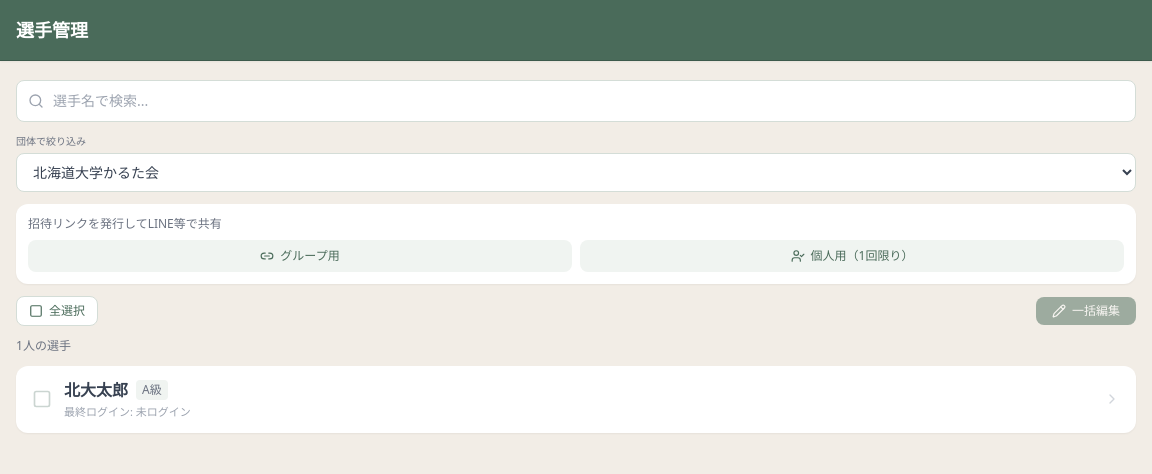
PlayerList - 選択UI・団体フィルタ・一括編集導線 › ADMINは自団体選択時のみ招待ボタンが有効（他団体選択時は発行先固定のため無効）
Expected: the text "北大太郎" is shown, 64,378 -> 128,402
Expected: the button "グループ用" is enabled, 28,240 -> 572,272
Select "わすらもち会" in the dropdown named "団体で絞り込み" at (576, 172), box 16,153 -> 1136,192
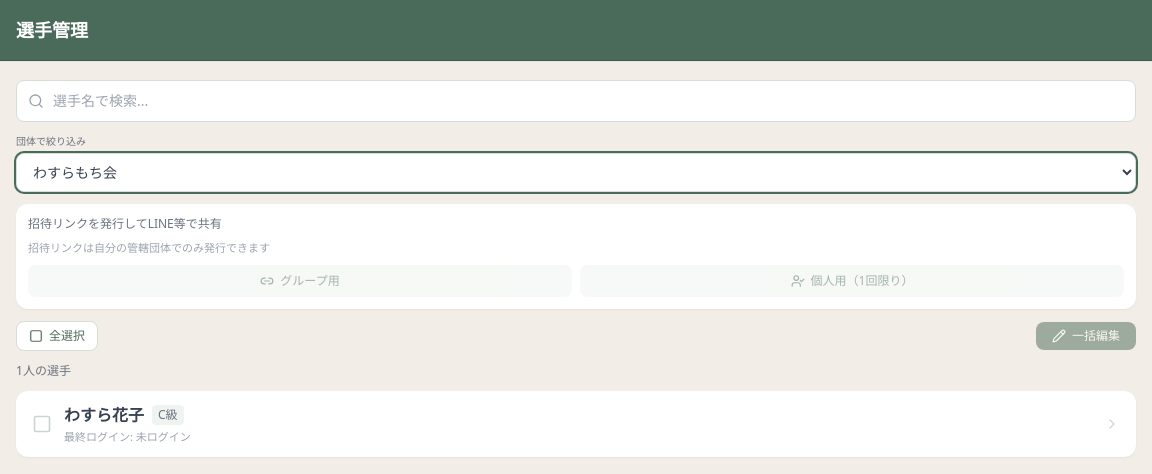
Expected: the button "グループ用" is disabled, 28,264 -> 572,296
